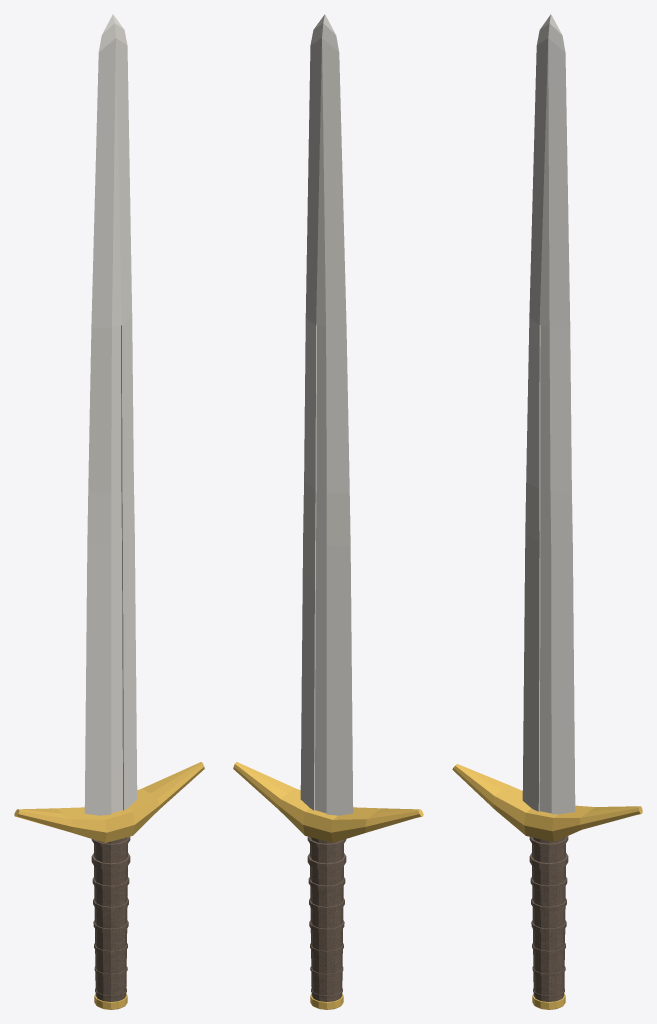
File: Claymore.fbx
The picture shows the model from 3 angles, left to right: view 1: azimuth 30°, elevation 25°; view 2: azimuth 150°, elevation 25°; view 3: azimuth 330°, elevation 25°; orthographic projection.
Visible parts, largest first — view 1: Plane.001; view 2: Plane.001; view 3: Plane.001.
Part boxes in pixels (x1,y1,x2,y2): Plane.001: [14, 14, 204, 1009]; Plane.001: [233, 14, 423, 1009]; Plane.001: [452, 14, 642, 1009].
Size of the model in its own units: 0.24 by 1.2 by 0.0453.
3 materials, 3 textured.
